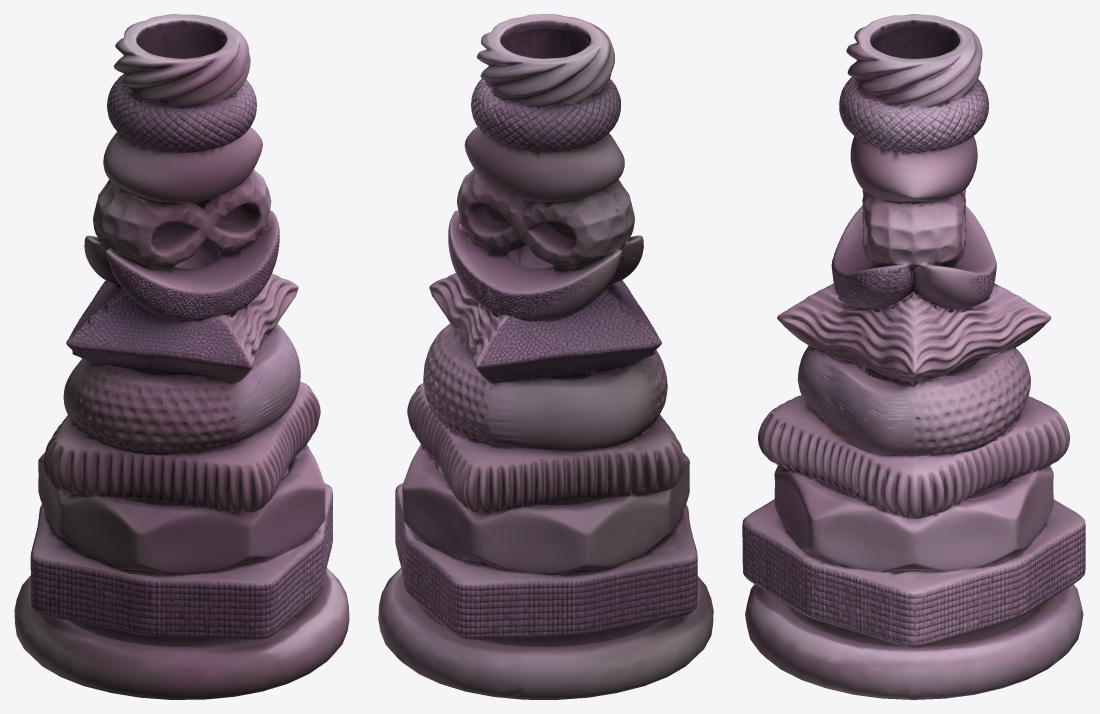
The picture shows the model from 3 angles, left to right: view 1: azimuth 30°, elevation 25°; view 2: azimuth 150°, elevation 25°; view 3: azimuth 270°, elevation 25°; orthographic projection.
Visible parts, largest first — view 1: tripo_node_13bc431e-4213-45a6-ae51-e7f8997e2586; view 2: tripo_node_13bc431e-4213-45a6-ae51-e7f8997e2586; view 3: tripo_node_13bc431e-4213-45a6-ae51-e7f8997e2586.
Boxes of the visible parts, bbox=[...] form: tripo_node_13bc431e-4213-45a6-ae51-e7f8997e2586: bbox=[14, 14, 349, 699]; tripo_node_13bc431e-4213-45a6-ae51-e7f8997e2586: bbox=[378, 14, 713, 699]; tripo_node_13bc431e-4213-45a6-ae51-e7f8997e2586: bbox=[742, 14, 1085, 699].
Bounding box in the file's own units: 0.5128 × 0.9792 × 0.5119.
Materials: 1 (1 with a texture image).
